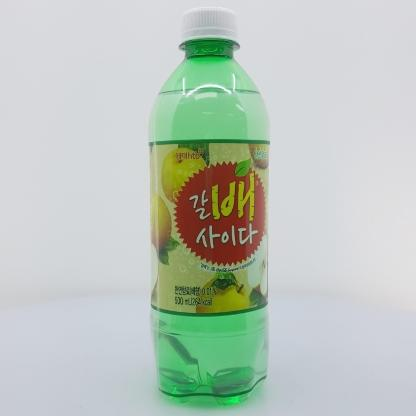-------500ML: (148, 7, 271, 406)
